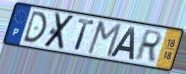A: (108, 25, 136, 61)
D: (21, 10, 48, 44)
M: (85, 20, 123, 59)
R: (132, 29, 164, 63)
T: (73, 18, 96, 53)
X: (41, 12, 77, 51)
